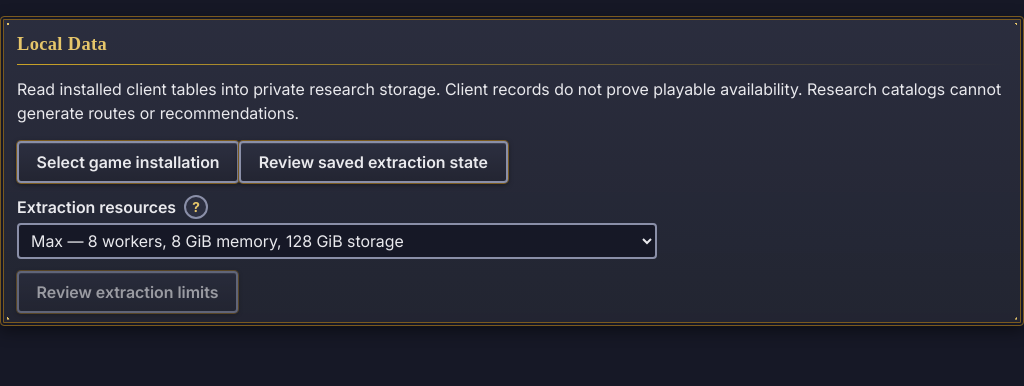
Test: reports safe errors without exposing paths and never starts from an unselected installation
This screenshot has width=1024, height=386.
Click the button "Select game installation".
click(128, 162)  # box [17,141,239,183]
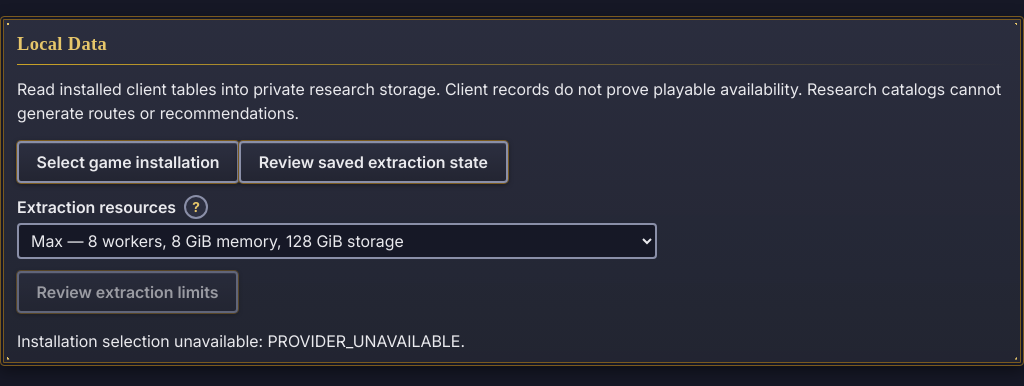
Expected: the button "Review extraction limits" is disabled, [17,271,238,313]
Expected: the message shows "PROVIDER_UNAVAILABLE", [17,331,465,351]
